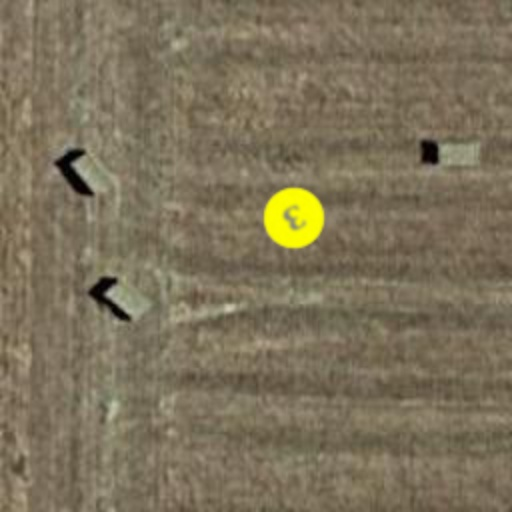circle: (252, 176, 336, 260)
